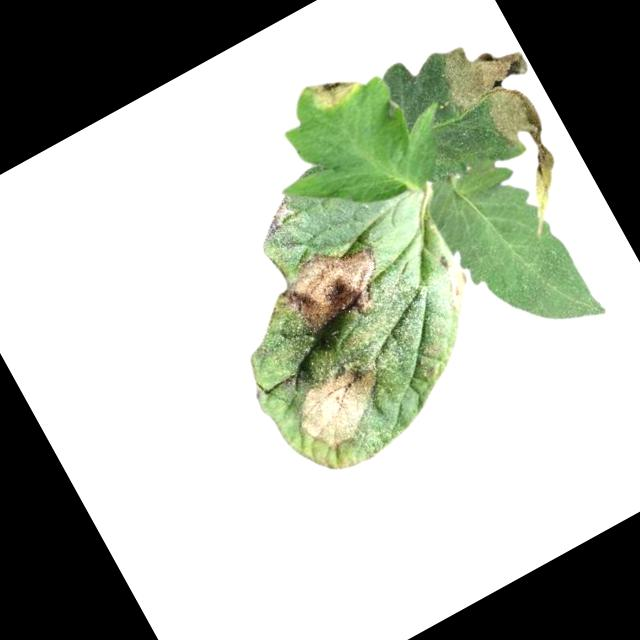Late_blight: (419, 19, 602, 245), (267, 232, 398, 351), (279, 347, 403, 464), (298, 61, 365, 120), (433, 256, 481, 314), (250, 193, 303, 243)
